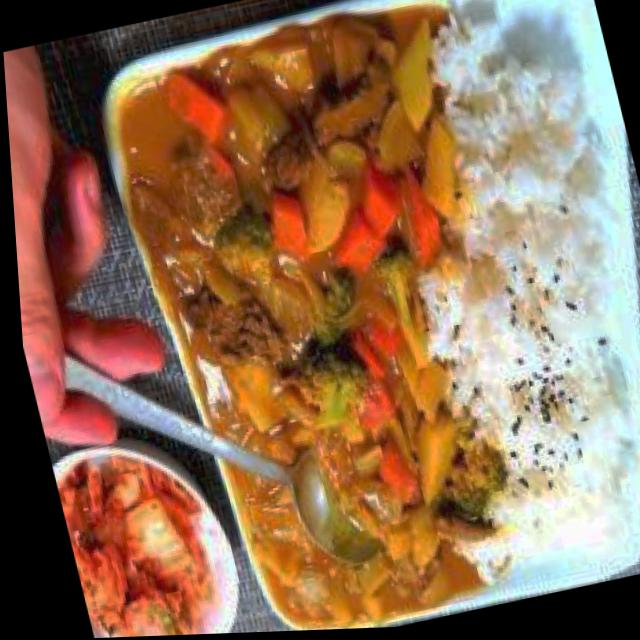curry: (109, 21, 491, 636), (340, 4, 480, 241)
rice: (429, 6, 640, 526), (452, 243, 623, 561)
